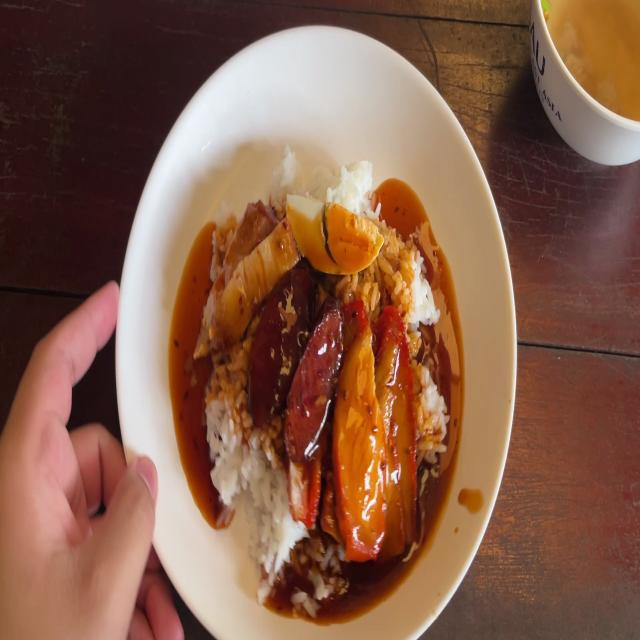01boiled_egg: (288, 193, 384, 272)
01chainese_sausage: (244, 269, 335, 452)
01crispy_pork: (199, 206, 293, 349)
01red_pork: (342, 312, 416, 540), (340, 318, 383, 542), (379, 321, 419, 537)
01red_pork_and_crispy_pork: (207, 146, 452, 596)
01rice: (243, 448, 298, 596), (277, 141, 376, 206), (207, 367, 254, 495), (385, 228, 434, 322), (424, 368, 442, 464)
